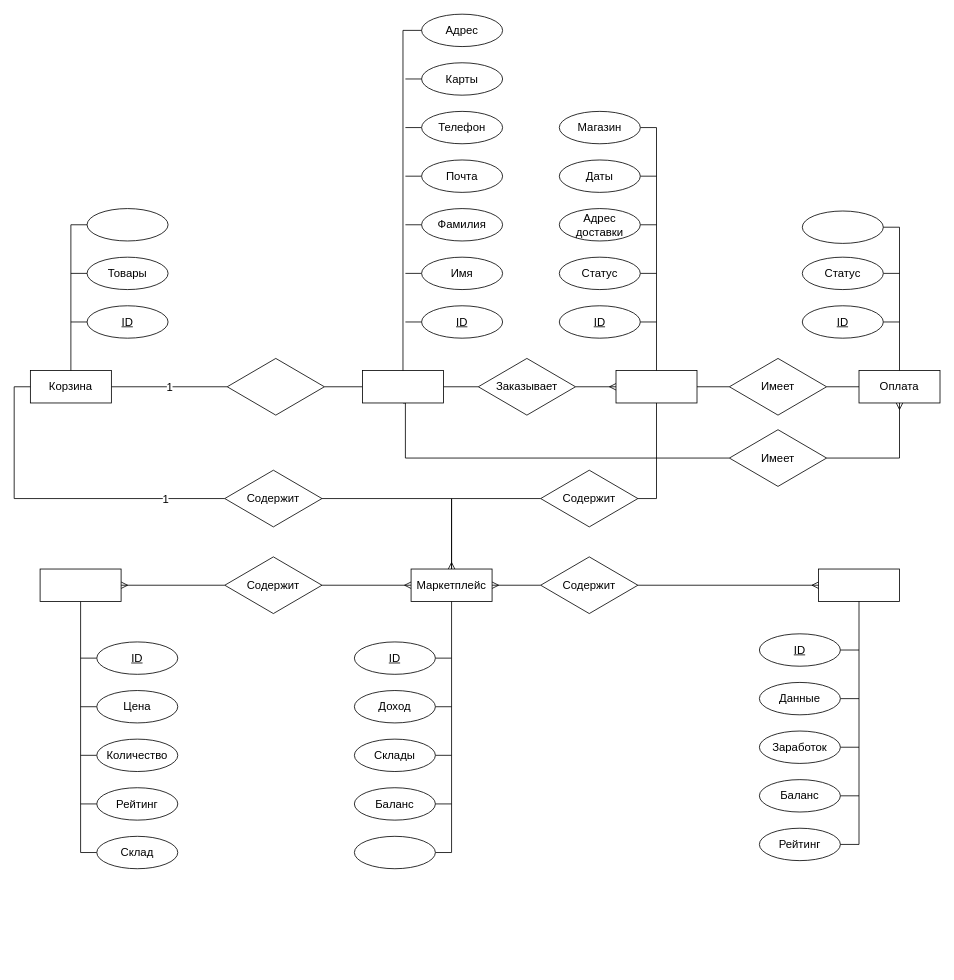
Some shapes in this 954 by 980 pixel diagram are drawn without their labels. Each missing label, with the box of its shape:
Заказ: (615, 370, 697, 403)
Обладает: (226, 358, 324, 415)
Общий рейтинг: (354, 836, 435, 869)
Пользователь: (362, 370, 443, 403)
Продавец: (818, 568, 900, 601)
Статусы: (86, 208, 168, 241)
Сумма: (801, 210, 883, 243)
Товар: (39, 568, 121, 601)
